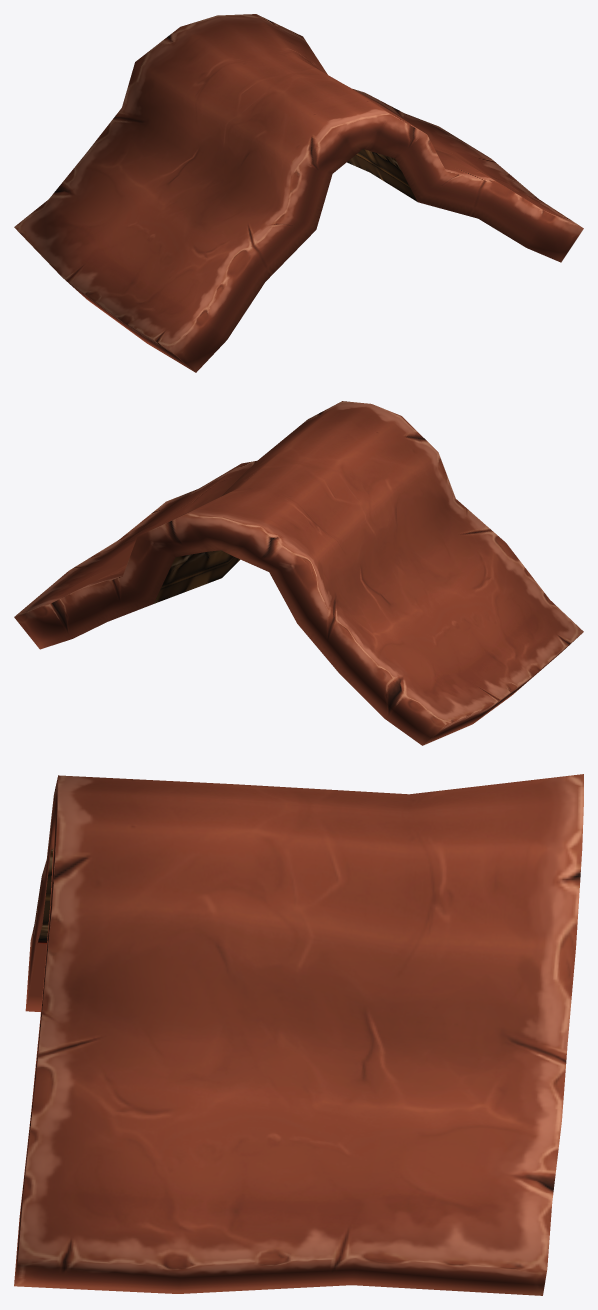
Rendered from roof_ridge4.fbx.
3 renders of one model, top to bottom at view 1: azimuth 30°, elevation 25°; view 2: azimuth 150°, elevation 25°; view 3: azimuth 270°, elevation 25°, orthographic. The views are drawn at different scales.
Visible parts, largest first — view 1: roof_ridge4; view 2: roof_ridge4; view 3: roof_ridge4.
Boxes of the visible parts, x1,y1,x2,y2 form: roof_ridge4: [14, 14, 583, 372]; roof_ridge4: [14, 401, 583, 745]; roof_ridge4: [14, 774, 583, 1295].
Bounding box in the file's own units: 89.49 × 42.96 × 57.84.
